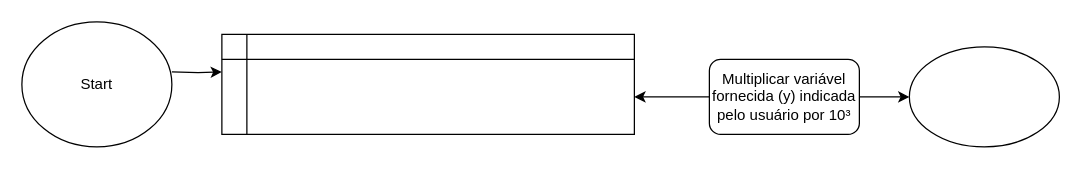
Image size: 1081x169. Some labels were removed from this diagram. The shapes that lost their labels are listed below. From the top down, each one's box as (x1, y1, x2, y2) in pixels, then its label:
(221, 33, 634, 134): int e_metro, s_mm
(908, 46, 1059, 147): End
